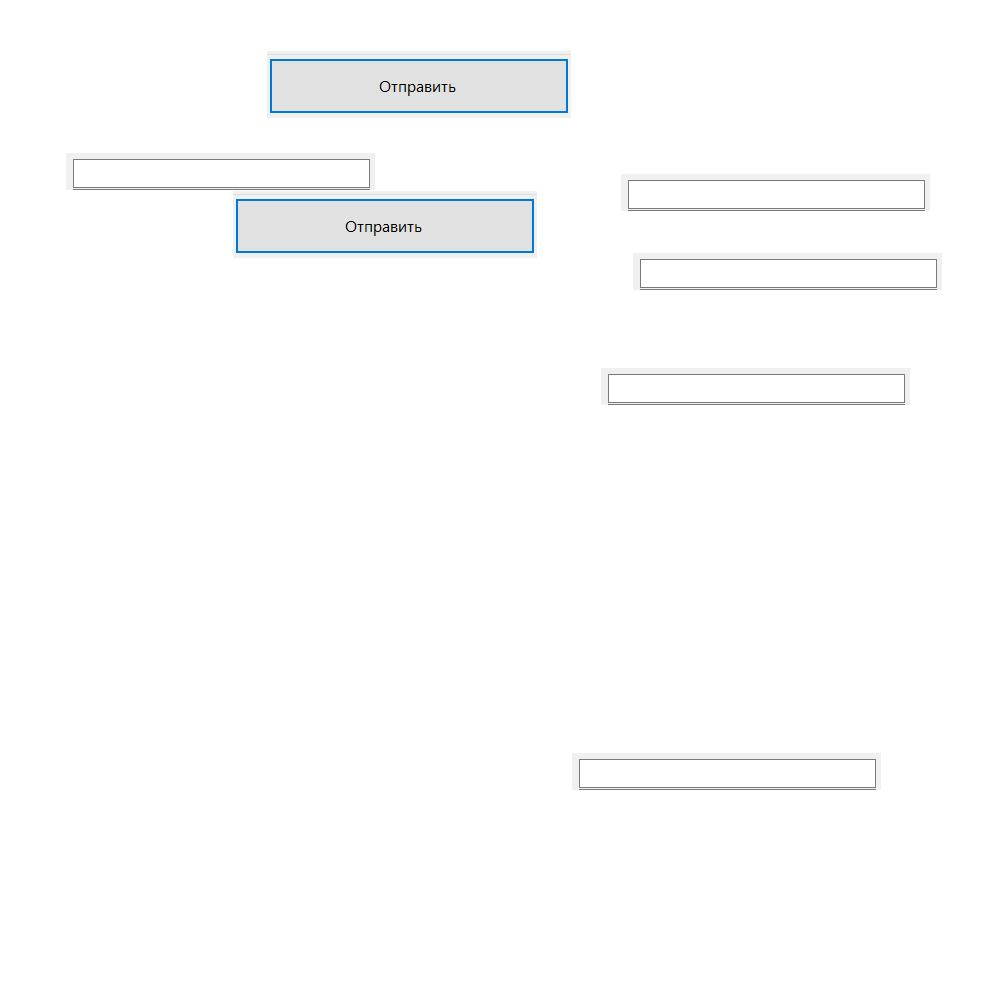Button: (233, 191, 537, 258), (267, 51, 571, 118)
EditText-: (66, 153, 375, 190), (621, 174, 930, 211), (572, 753, 881, 790), (601, 368, 910, 405), (633, 253, 942, 290)
